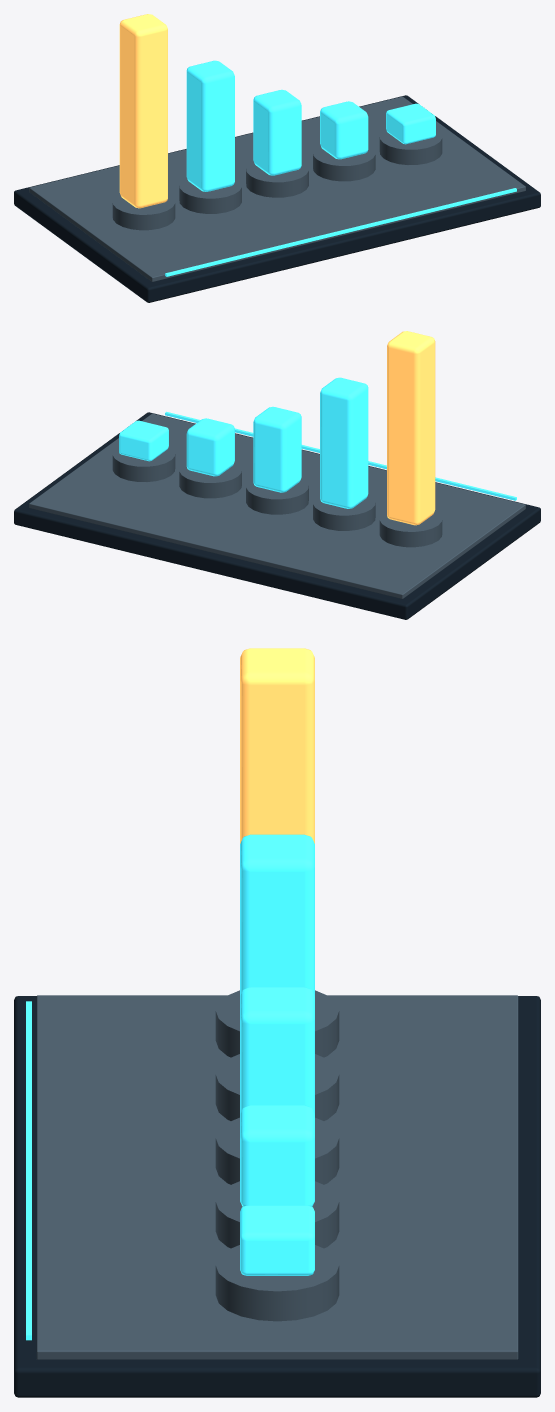
Rendered from logits-amphitheater.glb.
3 renders of one model, top to bottom at view 1: azimuth 30°, elevation 25°; view 2: azimuth 150°, elevation 25°; view 3: azimuth 270°, elevation 25°, orthographic. The views are drawn at different scales.
Visible parts, largest first — view 1: inlay, base, demo_probability_0, demo_probability_1, demo_probability_2, demo_probability_3, podium_0, podium_3, podium_2, podium_1, status_strip, demo_probability_4 (+1 smaller); view 2: inlay, base, demo_probability_0, demo_probability_1, demo_probability_2, demo_probability_3, podium_0, podium_3, podium_2, podium_1, demo_probability_4, podium_4 (+1 smaller); view 3: inlay, base, demo_probability_0, demo_probability_1, demo_probability_2, demo_probability_3, podium_4, demo_probability_4, podium_3, podium_2, podium_0, podium_1 (+1 smaller).
Part boxes in pixels (<box>): inlay: <box>29,96,525,281</box>; base: <box>14,95,540,302</box>; demo_probability_0: <box>119,14,167,208</box>; demo_probability_1: <box>186,60,234,191</box>; demo_probability_2: <box>253,89,301,175</box>; demo_probability_3: <box>320,101,368,159</box>; podium_0: <box>112,193,175,230</box>; podium_3: <box>313,144,375,181</box>; podium_2: <box>246,160,308,197</box>; podium_1: <box>179,177,241,213</box>; status_strip: <box>165,188,516,276</box>; demo_probability_4: <box>386,103,435,144</box>; inlay: <box>29,413,525,598</box>; base: <box>14,412,540,619</box>; demo_probability_0: <box>387,331,435,525</box>; demo_probability_1: <box>320,377,368,508</box>; demo_probability_2: <box>253,406,301,492</box>; demo_probability_3: <box>186,418,234,476</box>; podium_0: <box>379,510,442,547</box>; podium_3: <box>179,461,241,498</box>; podium_2: <box>246,477,308,514</box>; podium_1: <box>313,494,375,530</box>; demo_probability_4: <box>119,420,168,461</box>; podium_4: <box>112,445,175,481</box>; inlay: <box>36,995,518,1359</box>; base: <box>14,996,540,1397</box>; demo_probability_0: <box>240,648,314,843</box>; demo_probability_1: <box>240,834,314,995</box>; demo_probability_2: <box>240,987,314,1114</box>; demo_probability_3: <box>240,1105,314,1206</box>; podium_4: <box>215,1245,339,1321</box>; demo_probability_4: <box>240,1205,314,1275</box>; podium_3: <box>215,1181,339,1248</box>; podium_2: <box>215,1117,339,1184</box>; podium_0: <box>215,990,339,1057</box>; podium_1: <box>215,1054,339,1120</box>.
Bounding box in the file's own units: 5.9 × 3.11 × 3.5.
